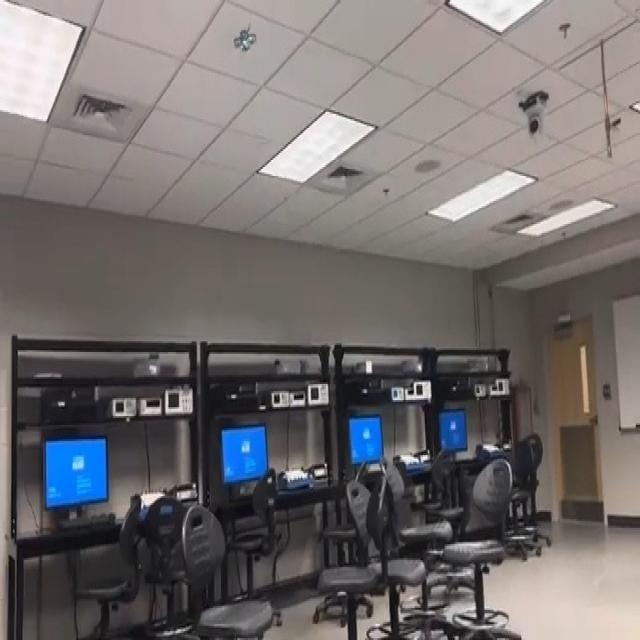drone: (228, 15, 263, 60)
